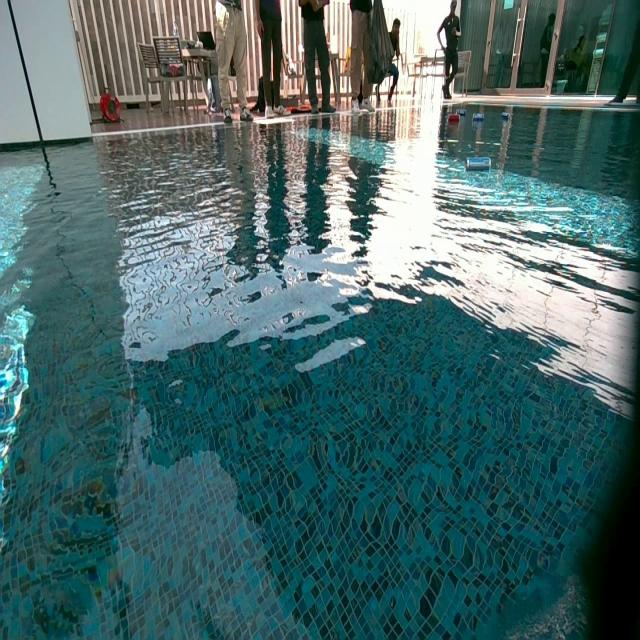Cans: (466, 157, 491, 173), (447, 112, 460, 125), (471, 112, 484, 122), (501, 112, 511, 122), (458, 108, 467, 115)
